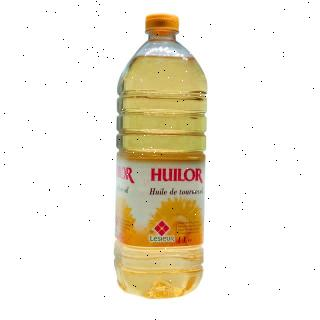Plastic-bottle: (111, 13, 211, 299)
